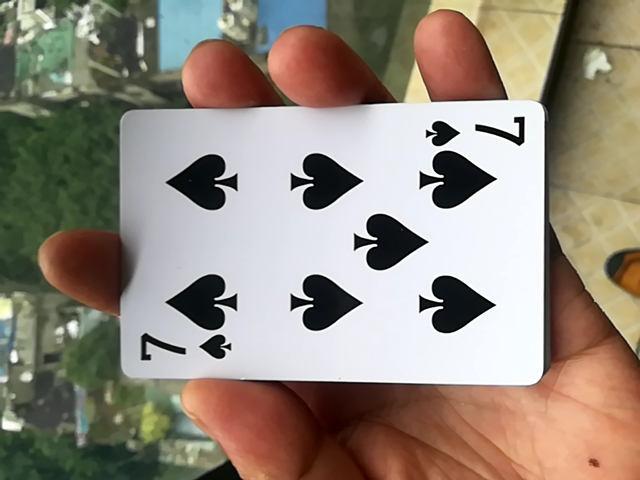ht 7: (109, 101, 548, 389)
